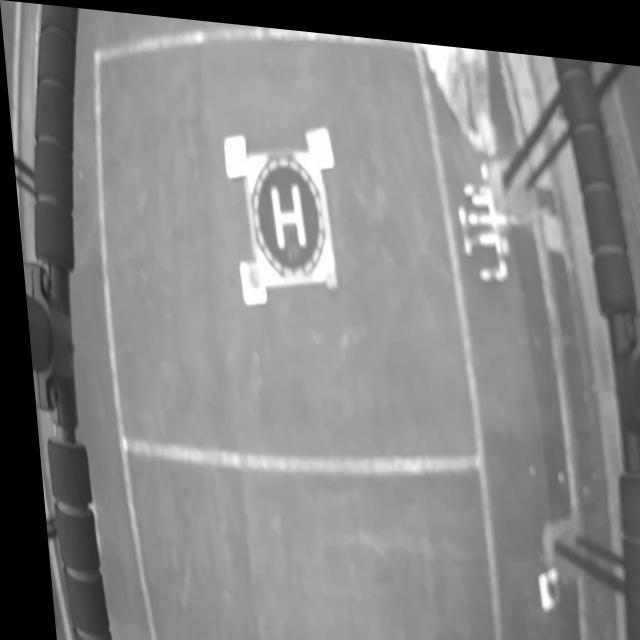Helipad: (267, 178, 304, 245)
